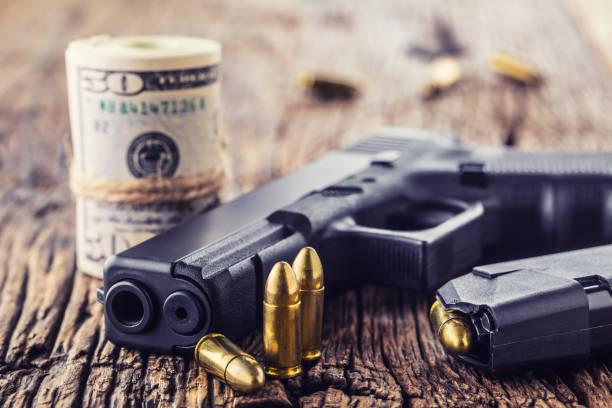weapon: (98, 124, 612, 354)
